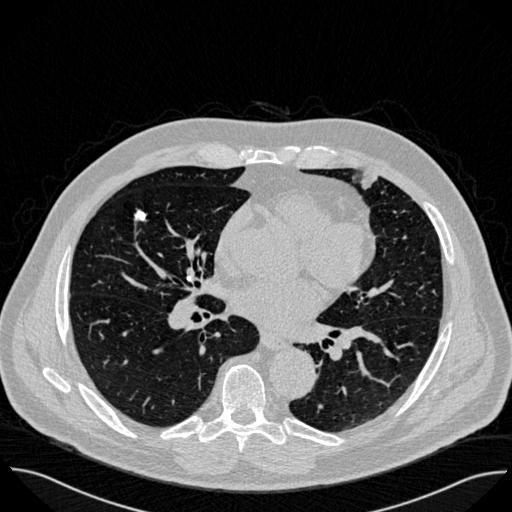nodule: (133, 209, 148, 224)
